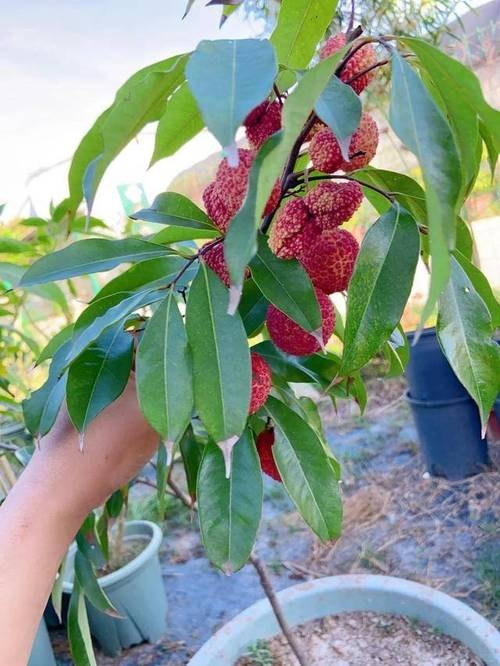Frost_Blight: (212, 80, 358, 288)
